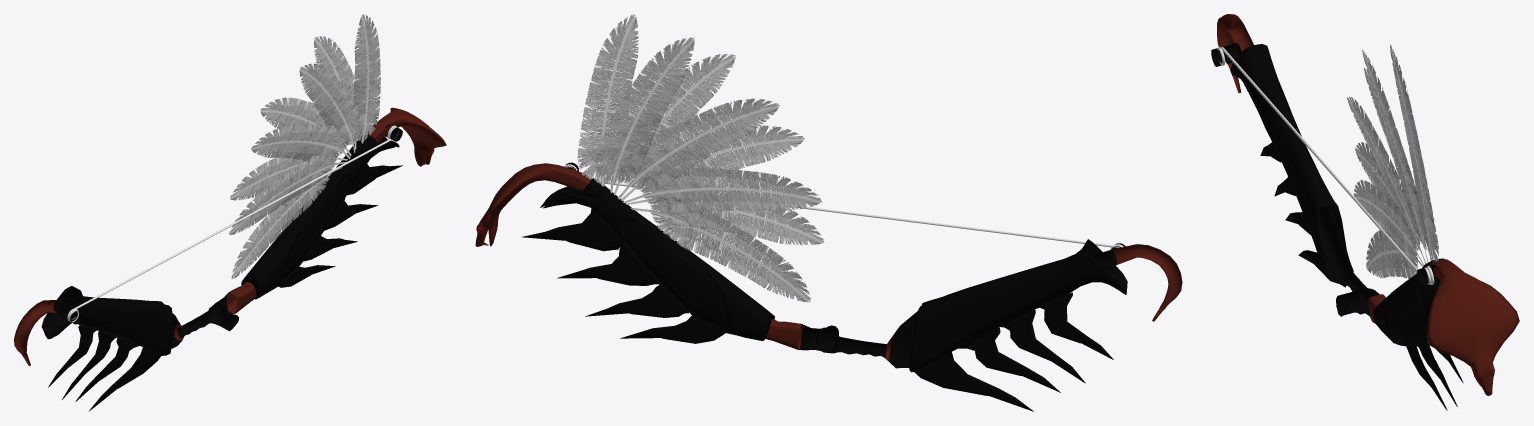
File: bow .dae
3 views of the same model, side by side, from view 1: azimuth 30°, elevation 25°; view 2: azimuth 150°, elevation 25°; view 3: azimuth 270°, elevation 25° (orthographic). The views are drawn at different scales.
Parts seen in each view (by area): view 1: Cube_001; view 2: Cube_001; view 3: Cube_001.
Part boxes in pixels (x1=…): Cube_001: x1=14, y1=14, x2=446, y2=411; Cube_001: x1=475, y1=14, x2=1182, y2=411; Cube_001: x1=1211, y1=14, x2=1519, y2=410.
Size of the model in its own units: 88.35 by 34.49 by 48.61.
Materials: 5 (3 with a texture image).
